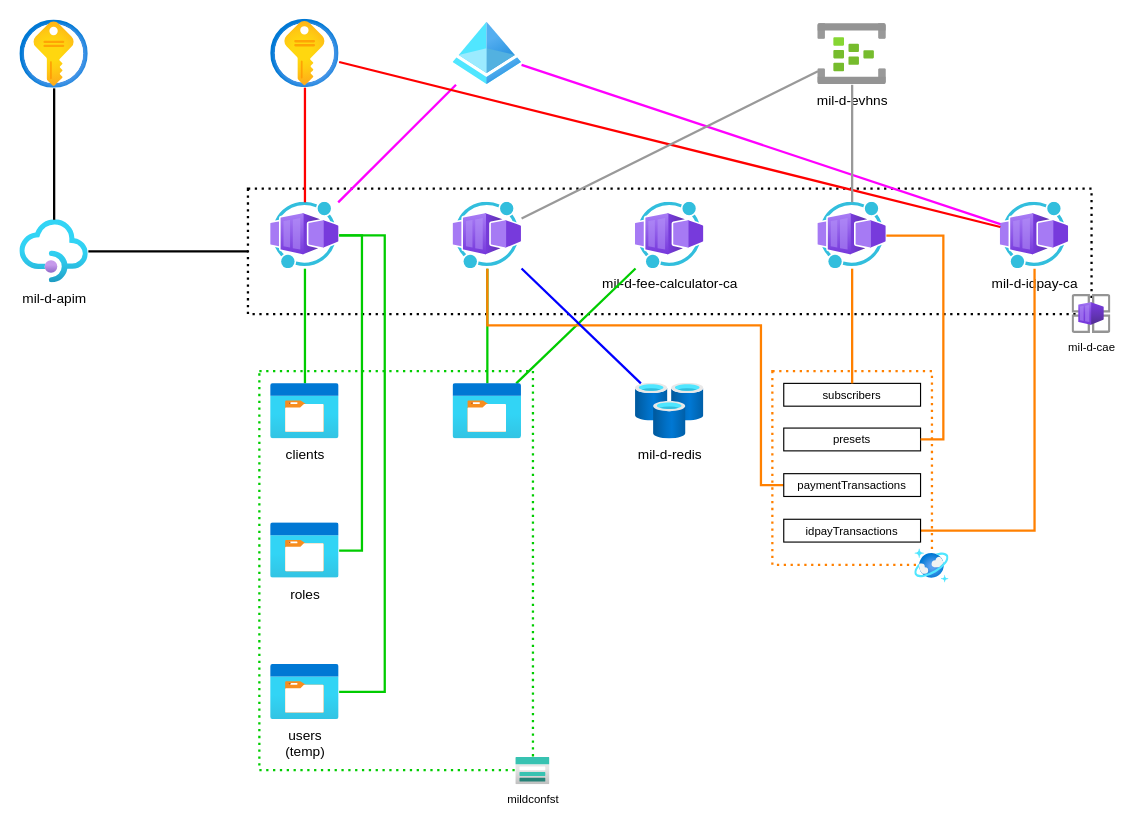
The diagram is 1134 pixels wide and 827 high, and some of its shapes have lost their labels. Each missing label, with the box of its shape:
acquirers: (453, 383, 521, 438)
mil-d-appl-kv: (270, 19, 339, 87)
mil-d-auth-ca: (270, 202, 339, 268)
mil-d-cosmos: (914, 548, 948, 583)
mil-d-kv: (19, 19, 88, 88)
mil-d-payment-notice-ca: (453, 202, 521, 268)
mil-d-preset-ca: (817, 202, 886, 268)
